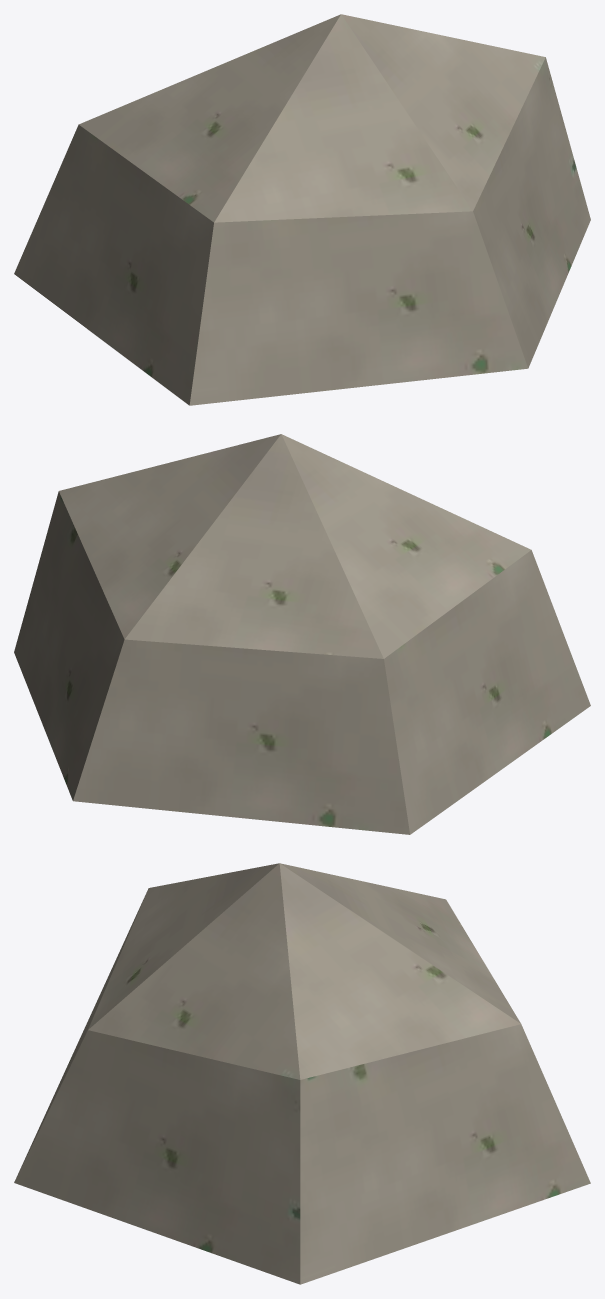
Rendered from rock.2.glb.
3 views of the same model, one above another, from view 1: azimuth 30°, elevation 25°; view 2: azimuth 150°, elevation 25°; view 3: azimuth 270°, elevation 25° (orthographic). The views are drawn at different scales.
Parts seen in each view (by area): view 1: scenery.rock.2; view 2: scenery.rock.2; view 3: scenery.rock.2.
Boxes of the visible parts, <box> form: scenery.rock.2: <box>14,14,590,405</box>; scenery.rock.2: <box>14,434,590,834</box>; scenery.rock.2: <box>14,863,590,1284</box>.
Size of the model in its own units: 0.8379 by 0.45 by 0.8143.
1 material, 1 textured.
